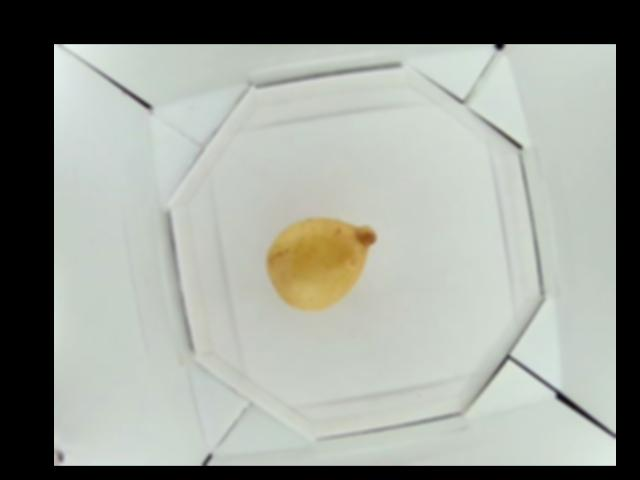Potato: (266, 213, 377, 316)
